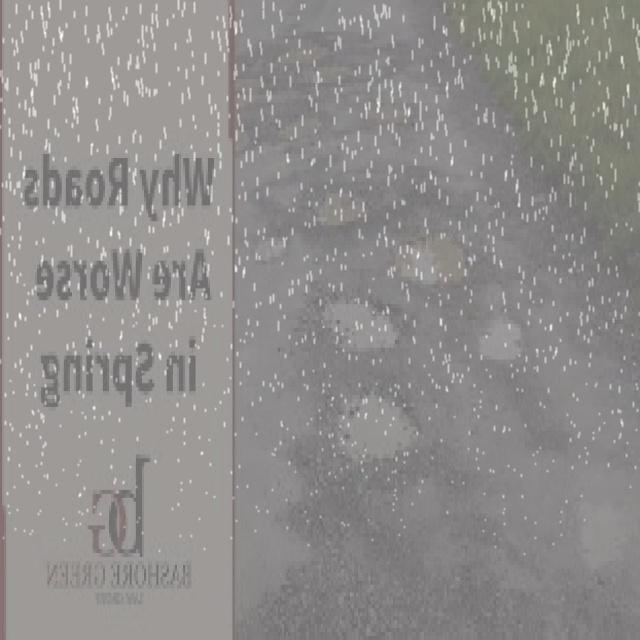Pothole: (233, 60, 368, 149), (328, 380, 426, 473), (311, 272, 408, 358), (390, 232, 481, 294), (467, 310, 527, 370), (308, 175, 368, 231), (242, 229, 294, 265), (264, 41, 335, 60)
